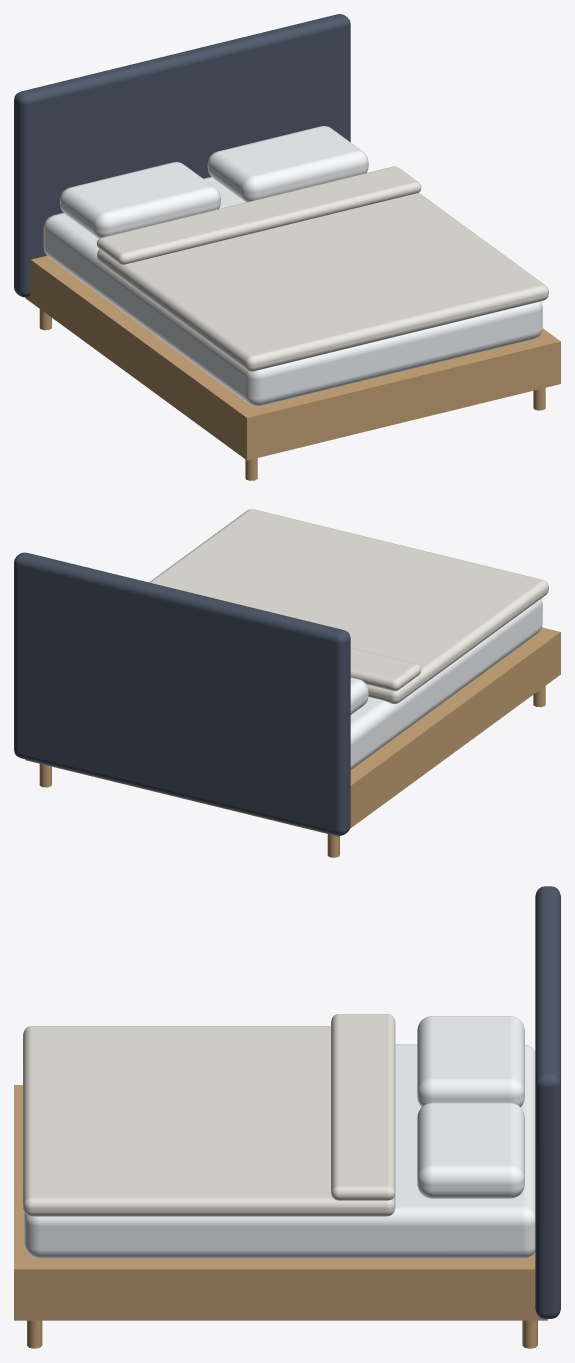
File: hsp-001.glb
The picture shows the model from 3 angles, top to bottom: view 1: azimuth 30°, elevation 25°; view 2: azimuth 150°, elevation 25°; view 3: azimuth 270°, elevation 25°; orthographic projection. The views are drawn at different scales.
Parts seen in each view (by area): view 1: linen, upholstery, white, oak; view 2: upholstery, linen, oak, white; view 3: linen, white, oak, upholstery.
Boxes of the visible parts, x1=… form: linen: x1=96, y1=166, x2=548, y2=371; upholstery: x1=14, y1=14, x2=350, y2=297; white: x1=43, y1=126, x2=542, y2=406; oak: x1=25, y1=256, x2=560, y2=480; upholstery: x1=14, y1=552, x2=350, y2=835; linen: x1=149, y1=509, x2=548, y2=703; oak: x1=25, y1=627, x2=560, y2=857; white: x1=350, y1=598, x2=542, y2=769; linen: x1=23, y1=1014, x2=395, y2=1216; white: x1=24, y1=1016, x2=535, y2=1258; oak: x1=14, y1=1085, x2=547, y2=1348; upholstery: x1=535, y1=886, x2=560, y2=1318.
Bounding box in the file's own units: 1.8 × 1.2 × 2.13.
